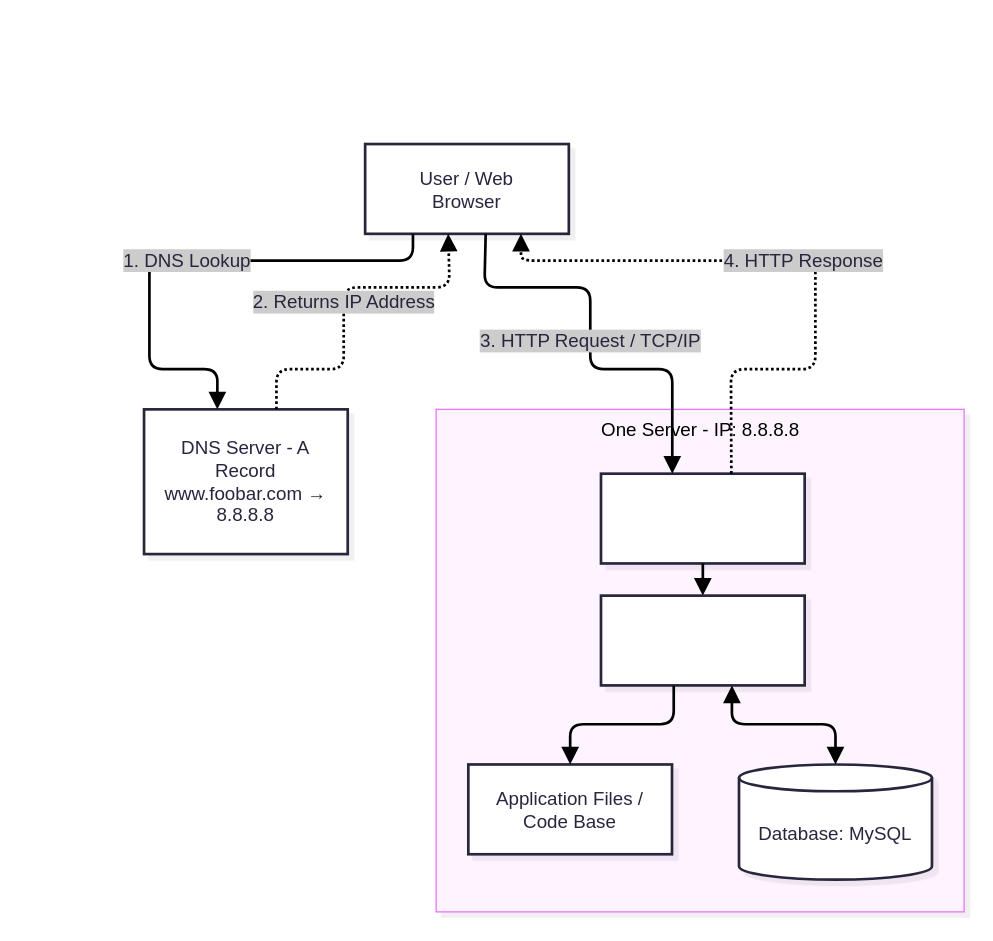
Image size: 993x941. Some labels were removed from this diagram. Here are the shapes that lost their labels. From the top down, the centre of each, then its label:
(705,521): Web Server: Nginx
(705,642): Application Server
